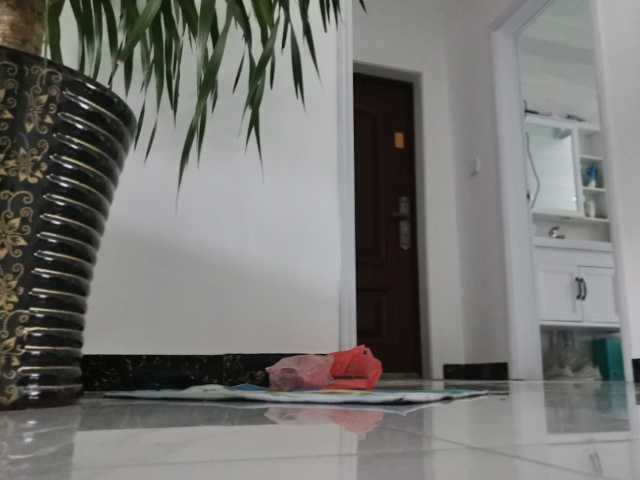carpet: (102, 387, 489, 407)
